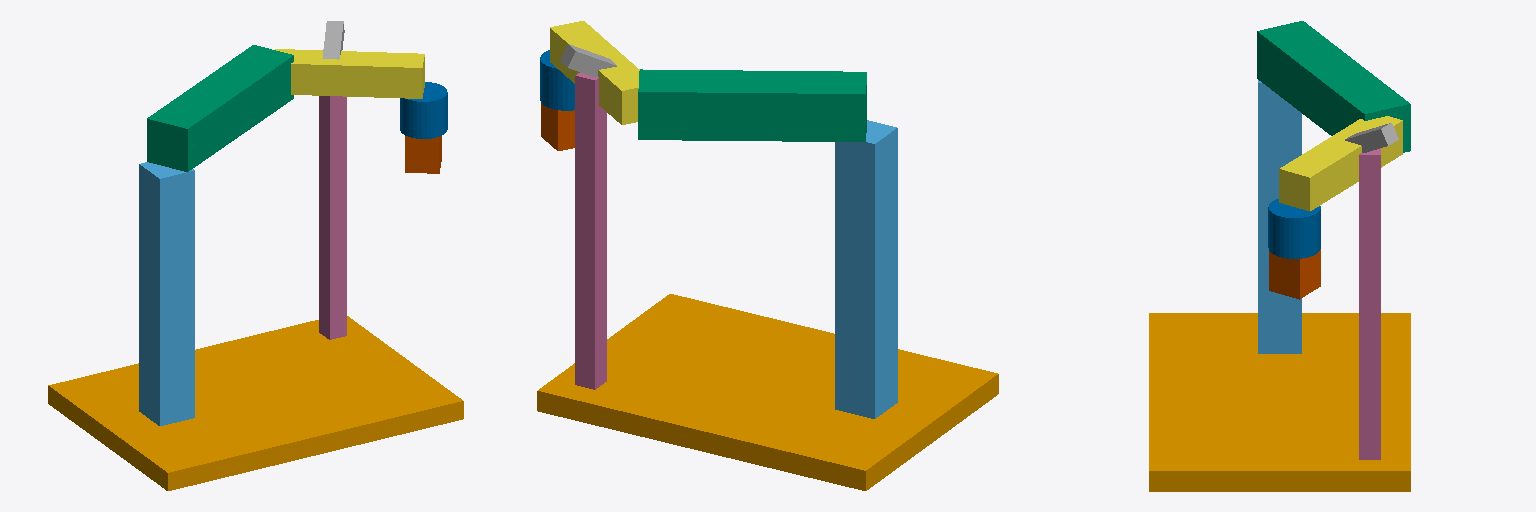
URDF robot description (fixture_arm):
<?xml version="1.0"?>
<!-- The 3D view's fixture robot (docs/robot-description.md): primitive boxes and one STL, metres, Z up. Mapped to the fixture
     boards in robot-description.toml beside it. -->
<robot name="fixture_arm">
  <link name="base_link">
    <visual><origin xyz="0 0 0.015"/><geometry><box size="0.5 0.35 0.03"/></geometry></visual>
  </link>
  <link name="column">
    <visual><origin xyz="0 0 0.2"/><geometry><box size="0.06 0.06 0.4"/></geometry></visual>
  </link>
  <link name="shoulder_link">
    <visual><origin xyz="0.15 0 0"/><geometry><box size="0.3 0.07 0.07"/></geometry></visual>
  </link>
  <link name="elbow_link">
    <visual><origin xyz="0.11 0 0"/><geometry><box size="0.22 0.05 0.05"/></geometry></visual>
  </link>
  <link name="wrist_link">
    <visual><origin xyz="0 0 -0.03"/><geometry><cylinder radius="0.035" length="0.06"/></geometry></visual>
  </link>
  <link name="tool_link">
    <visual><origin xyz="0 0 -0.03"/><geometry><box size="0.05 0.05 0.06"/></geometry></visual>
  </link>
  <link name="camera_mount">
    <visual><origin xyz="0 0 0.225"/><geometry><box size="0.03 0.03 0.45"/></geometry></visual>
  </link>
  <link name="camera_link">
    <visual><origin xyz="0 0 0.0125"/><geometry><mesh filename="meshes/camera.stl"/></geometry></visual>
  </link>
  <joint name="column_weld" type="fixed"><parent link="base_link"/><child link="column"/><origin xyz="-0.15 0 0.03"/></joint>
  <joint name="shoulder" type="revolute"><parent link="column"/><child link="shoulder_link"/><origin xyz="0 0 0.435" rpy="0 0 0.5"/>
    <axis xyz="0 0 1"/><limit lower="-3" upper="3" effort="10" velocity="2"/></joint>
  <joint name="elbow" type="revolute"><parent link="shoulder_link"/><child link="elbow_link"/><origin xyz="0.3 0 0" rpy="0 0 -1.1"/>
    <axis xyz="0 0 1"/><limit lower="-3" upper="3" effort="10" velocity="2"/></joint>
  <joint name="wrist" type="continuous"><parent link="elbow_link"/><child link="wrist_link"/><origin xyz="0.22 0 -0.025"/><axis xyz="0 0 1"/></joint>
  <joint name="tool_weld" type="fixed"><parent link="wrist_link"/><child link="tool_link"/><origin xyz="0 0 -0.06"/></joint>
  <joint name="camera_mount_weld" type="fixed"><parent link="base_link"/><child link="camera_mount"/><origin xyz="0.2 0.12 0.03"/></joint>
  <joint name="camera_weld" type="fixed"><parent link="camera_mount"/><child link="camera_link"/><origin xyz="0 0 0.45" rpy="0 0.5 -2.2"/></joint>
</robot>

--- What the picture shows (computed from the rendered views, not written in the file) ---
3 views of the same robot in one strip: view 1: azimuth 30°, elevation 25°; view 2: azimuth 150°, elevation 25°; view 3: azimuth 270°, elevation 25° (orthographic).
Robot: fixture_arm — 8 links, 7 joints (2 revolute, 1 continuous, 4 fixed); root link base_link; default pose: all joints at 0.
Links seen in each view (by area): view 1: base_link, column, shoulder_link, camera_mount, elbow_link, wrist_link, tool_link, camera_link; view 2: base_link, column, shoulder_link, camera_mount, elbow_link, wrist_link, tool_link, camera_link; view 3: base_link, shoulder_link, column, camera_mount, elbow_link, wrist_link, tool_link, camera_link.
Boxes of the visible links, x1,y1,x2,y2 form: base_link: (48,316,463,490); column: (139,162,194,425); shoulder_link: (147,45,293,171); camera_mount: (319,96,346,339); elbow_link: (275,49,424,98); wrist_link: (400,82,447,138); tool_link: (405,136,441,173); camera_link: (322,21,344,59); base_link: (537,294,998,490); column: (835,120,897,418); shoulder_link: (638,69,866,141); camera_mount: (575,73,606,389); elbow_link: (550,21,639,124); wrist_link: (540,50,574,110); tool_link: (541,103,574,150); camera_link: (560,44,616,76); base_link: (1149,313,1410,491); shoulder_link: (1257,21,1410,152); column: (1258,80,1301,353); camera_mount: (1359,148,1380,459); elbow_link: (1279,116,1402,211); wrist_link: (1268,199,1320,258); tool_link: (1269,249,1320,299); camera_link: (1345,123,1398,152).
Bounding box of the posed robot: 0.5798 × 0.35 × 0.5235 m (x, y, z).
Meshes: 1 distinct files referenced, 1 mesh visuals loaded (1 ASCII STL).
